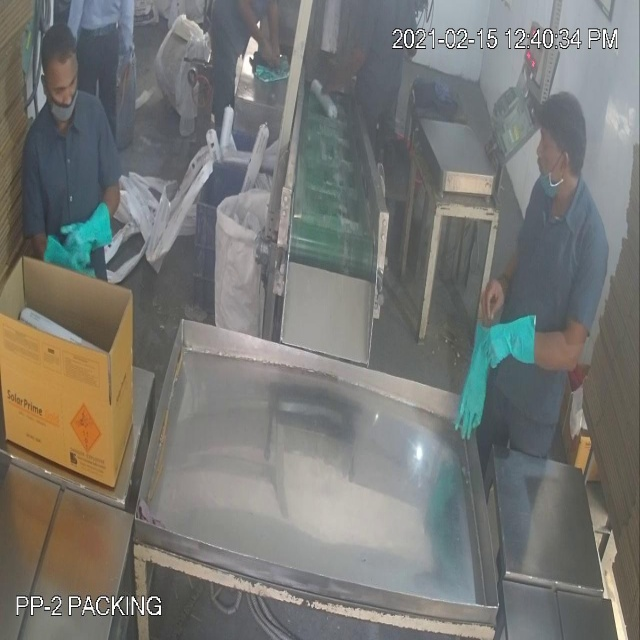Guantes: (62, 181, 123, 288), (455, 332, 499, 456), (486, 316, 545, 388)
Sin_guantes: (317, 32, 365, 114), (471, 259, 514, 326), (239, 1, 271, 68), (262, 1, 289, 72)
